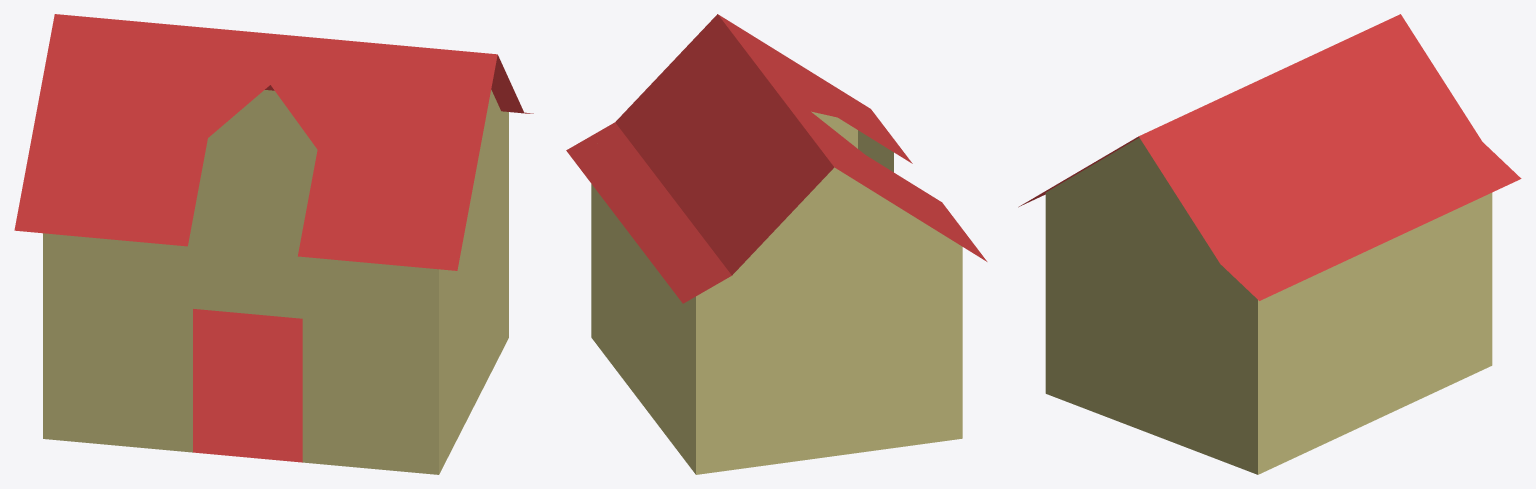
3 renders of one model, left to right at view 1: azimuth 30°, elevation 25°; view 2: azimuth 150°, elevation 25°; view 3: azimuth 270°, elevation 25°, orthographic. The views are drawn at different scales.
Size of the model in its own units: 18.52 by 18.36 by 12.22.
